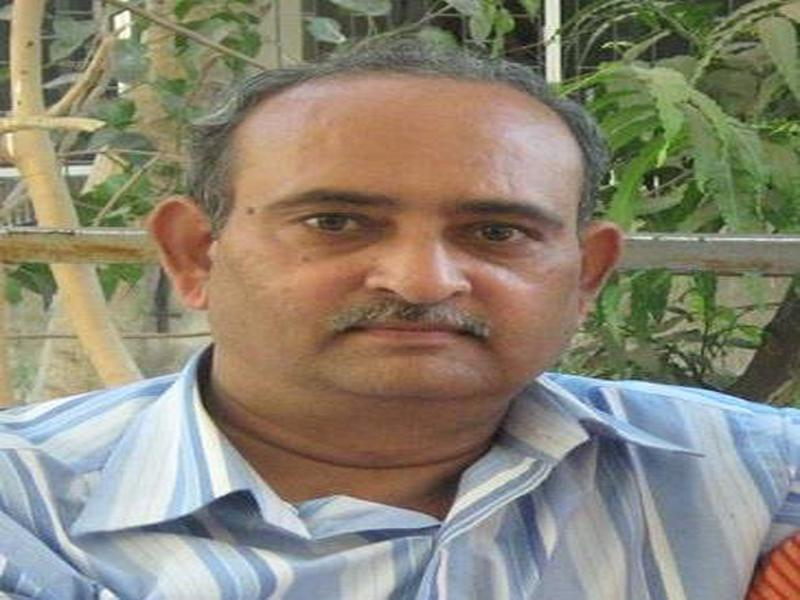without_mask: (216, 114, 582, 421)
